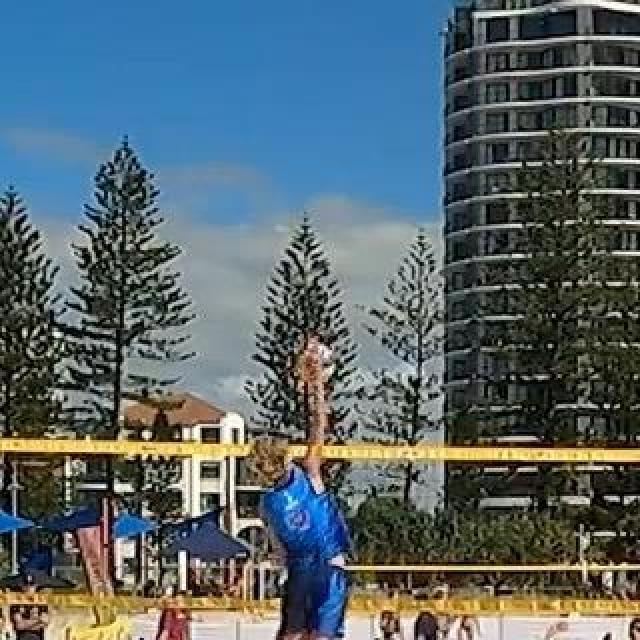volleyball: (297, 342, 335, 382)
